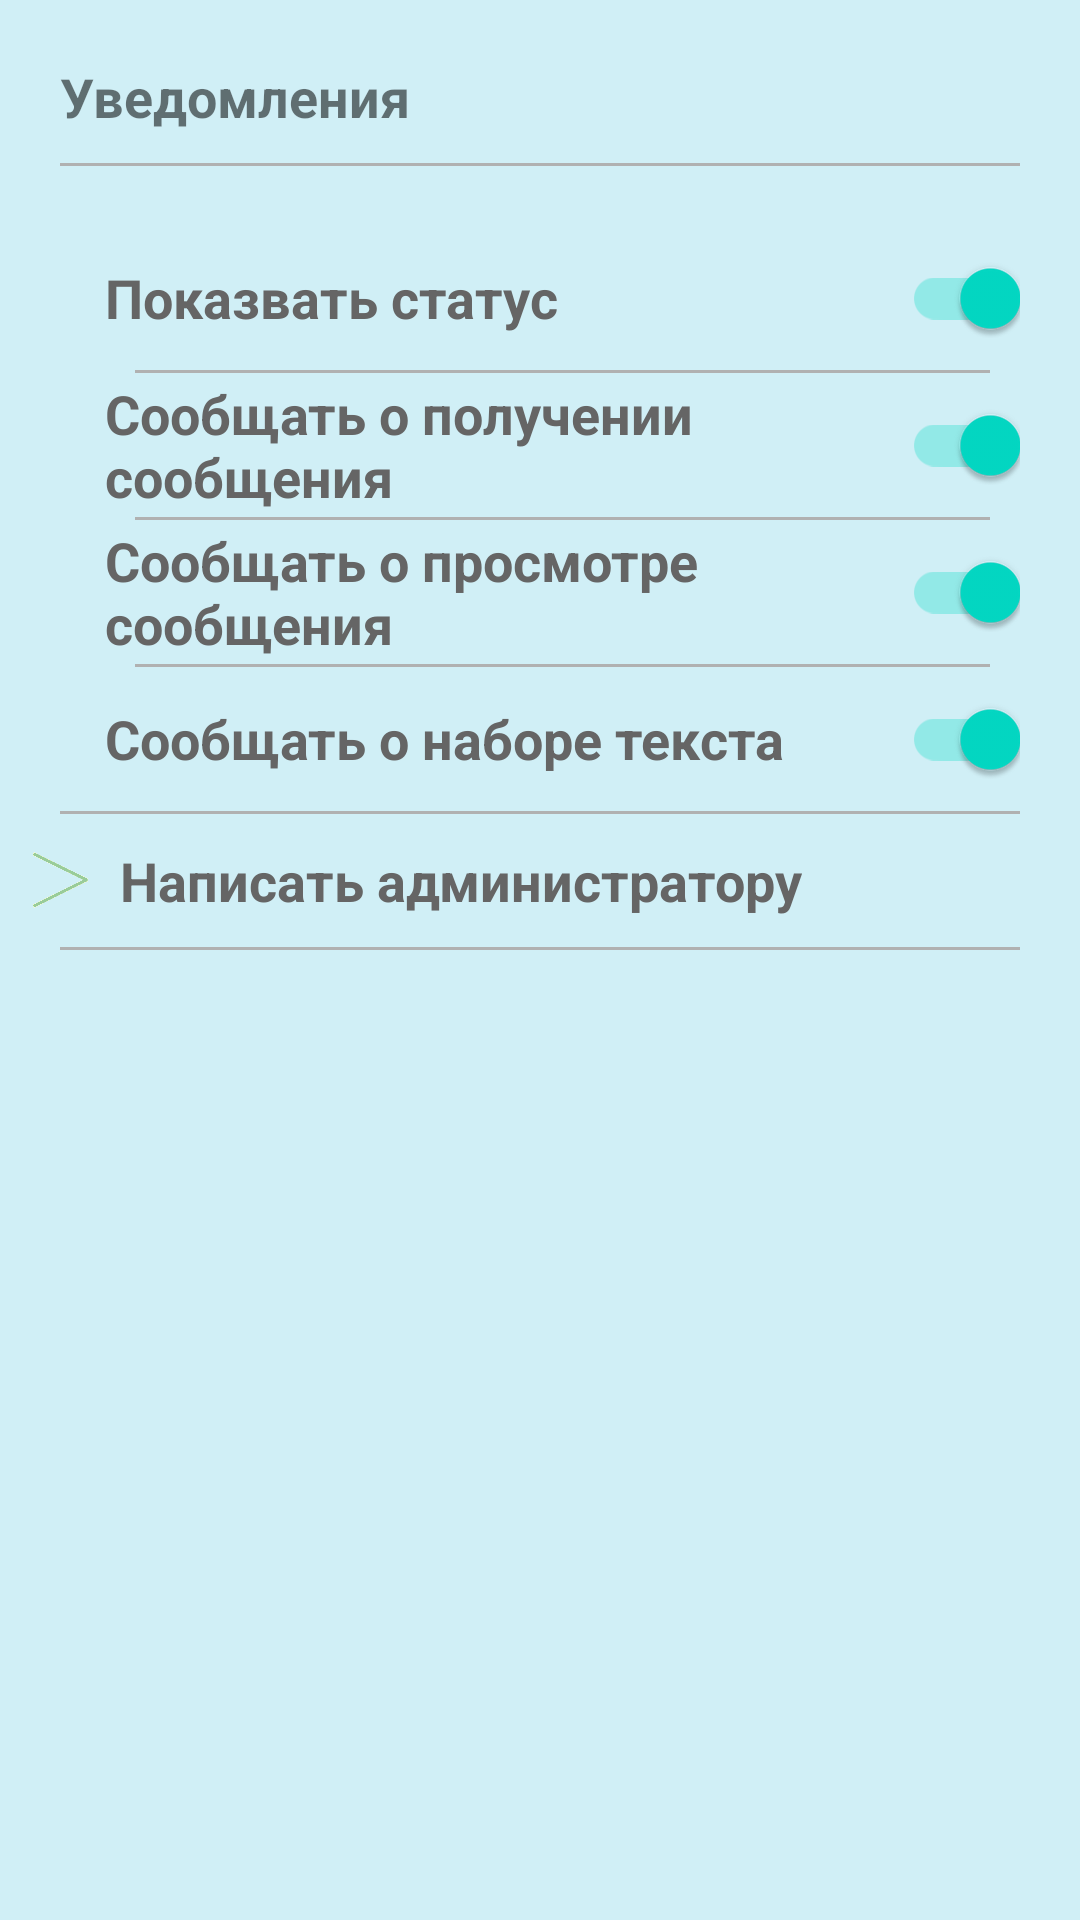

Point at icon controls on the screen. Image size 1080x1920, points as point (x, y).
submenu: point (60, 880)
